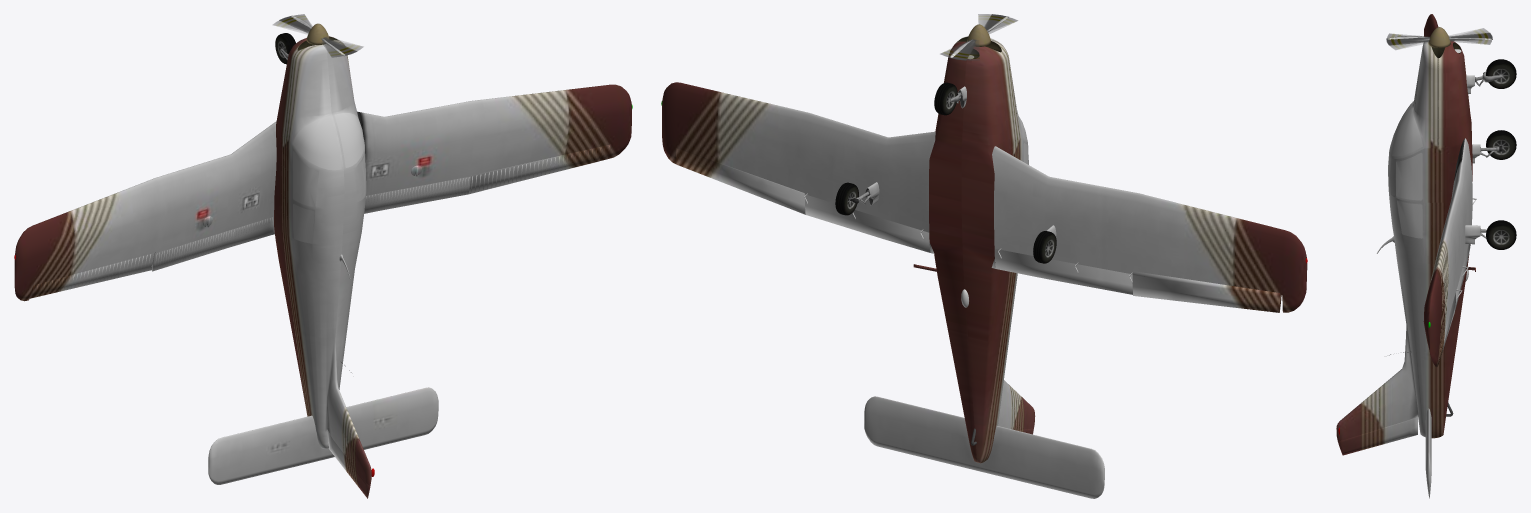
3 views of the same model, side by side, from view 1: azimuth 30°, elevation 25°; view 2: azimuth 150°, elevation 25°; view 3: azimuth 270°, elevation 25° (orthographic). The views are drawn at different scales.
Parts seen in each view (by area): view 1: ailes, fuselage, ailes2, vitres, aileronD, voletG, voletD, aileronG; view 2: ailes, fuselage, ailes2, aileronG, voletG, aileronD, voletD; view 3: fuselage, ailes, porteG, vitres, direction, vitreporteG, roueD, roueG, roueA, propdisc, caches, ailes2 (+5 smaller).
Boxes of the visible parts, x1,y1,x2,y2 form: ailes: [14, 84, 631, 301]; fuselage: [274, 36, 371, 485]; ailes2: [208, 387, 438, 484]; vitres: [293, 113, 365, 243]; aileronD: [468, 144, 610, 194]; voletG: [151, 216, 273, 271]; voletD: [364, 176, 470, 213]; aileronG: [29, 253, 153, 298]; ailes: [662, 82, 1307, 312]; fuselage: [929, 36, 1035, 463]; ailes2: [864, 396, 1104, 498]; aileronG: [1132, 271, 1281, 312]; voletG: [994, 249, 1132, 294]; aileronD: [676, 147, 805, 214]; voletD: [805, 194, 930, 252]; fuselage: [1336, 41, 1472, 440]; ailes: [1423, 14, 1476, 367]; porteG: [1389, 147, 1450, 202]; vitres: [1389, 102, 1422, 238]; direction: [1337, 417, 1417, 455]; vitreporteG: [1396, 152, 1422, 200]; roueD: [1486, 220, 1516, 249]; roueG: [1486, 130, 1516, 159]; roueA: [1486, 59, 1516, 88]; propdisc: [1387, 28, 1491, 49]; caches: [1465, 75, 1480, 244]; ailes2: [1425, 408, 1431, 498].
Size of the model in its own units: 10.55 by 7.15 by 2.73.
5 materials, 2 textured.
